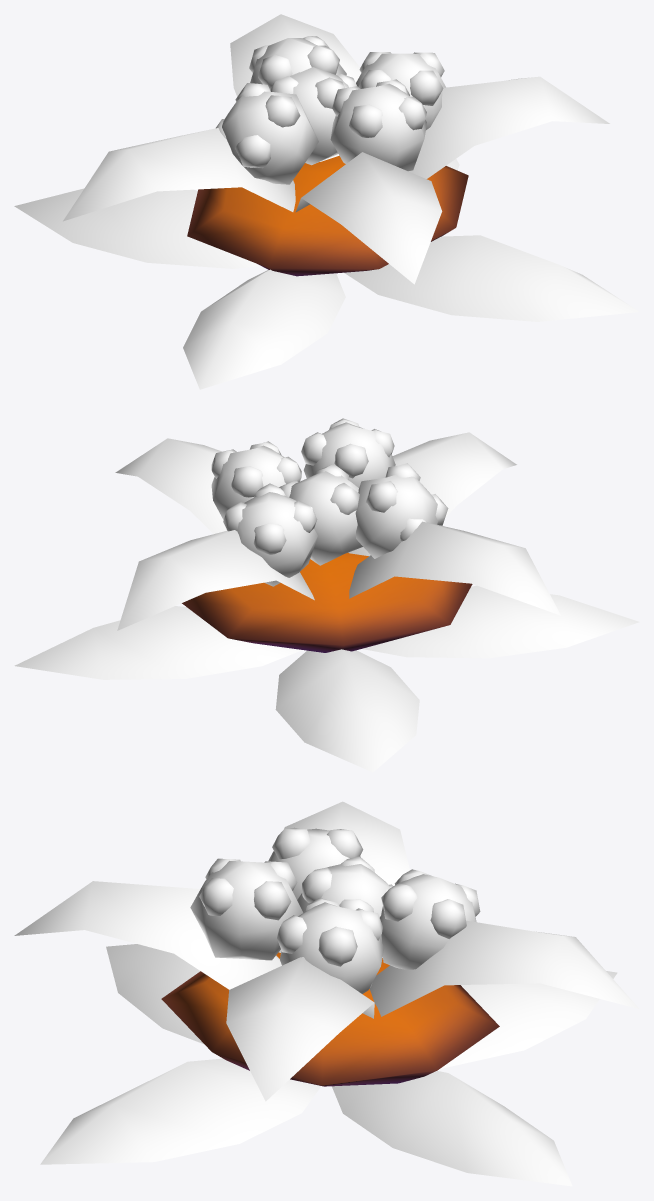
File: Plant_3.fbx
3 views of the same model, one above another, from view 1: azimuth 30°, elevation 25°; view 2: azimuth 150°, elevation 25°; view 3: azimuth 270°, elevation 25° (orthographic). The views are drawn at different scales.
Visible parts, largest first — view 1: polySurface6; view 2: polySurface6; view 3: polySurface6.
Boxes of the visible parts, x1=… form: polySurface6: x1=14, y1=14, x2=639, y2=389; polySurface6: x1=14, y1=418, x2=639, y2=772; polySurface6: x1=14, y1=801, x2=639, y2=1186.
Bounding box in the file's own units: 171 × 63.11 × 167.
